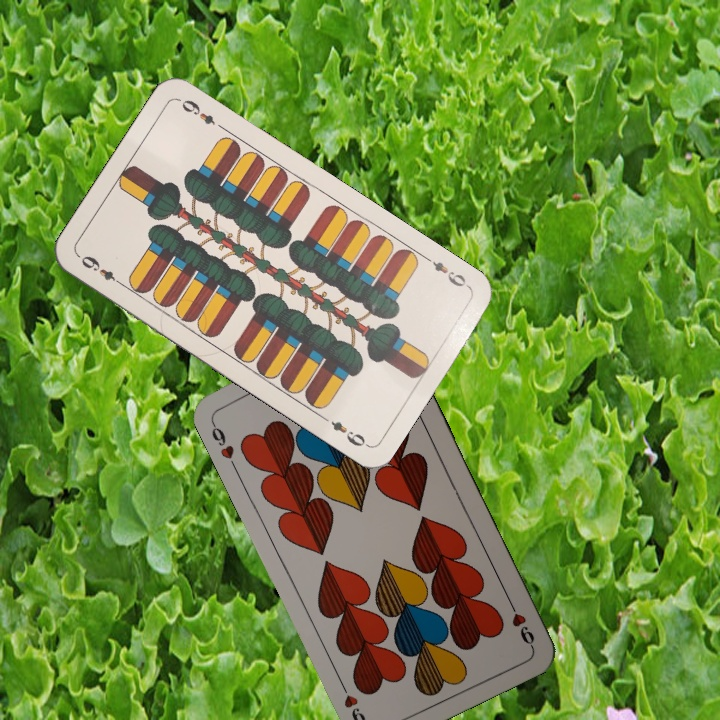E9: (75, 251, 127, 290), (420, 252, 472, 291)
H9: (503, 594, 537, 650), (206, 416, 239, 471)
